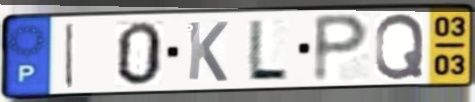0: (114, 19, 166, 87)
I: (62, 20, 77, 90)
K: (185, 19, 231, 84)
L: (243, 18, 291, 83)
P: (310, 11, 373, 85)
Q: (372, 11, 427, 82)
